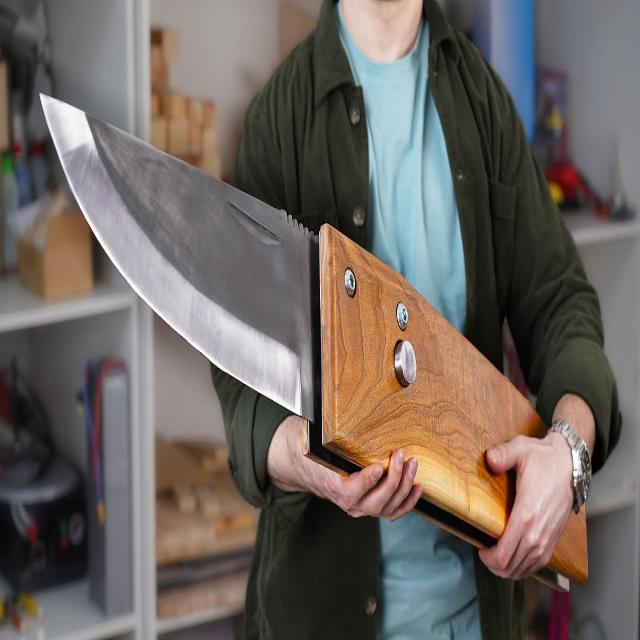knife: (35, 85, 600, 602)
